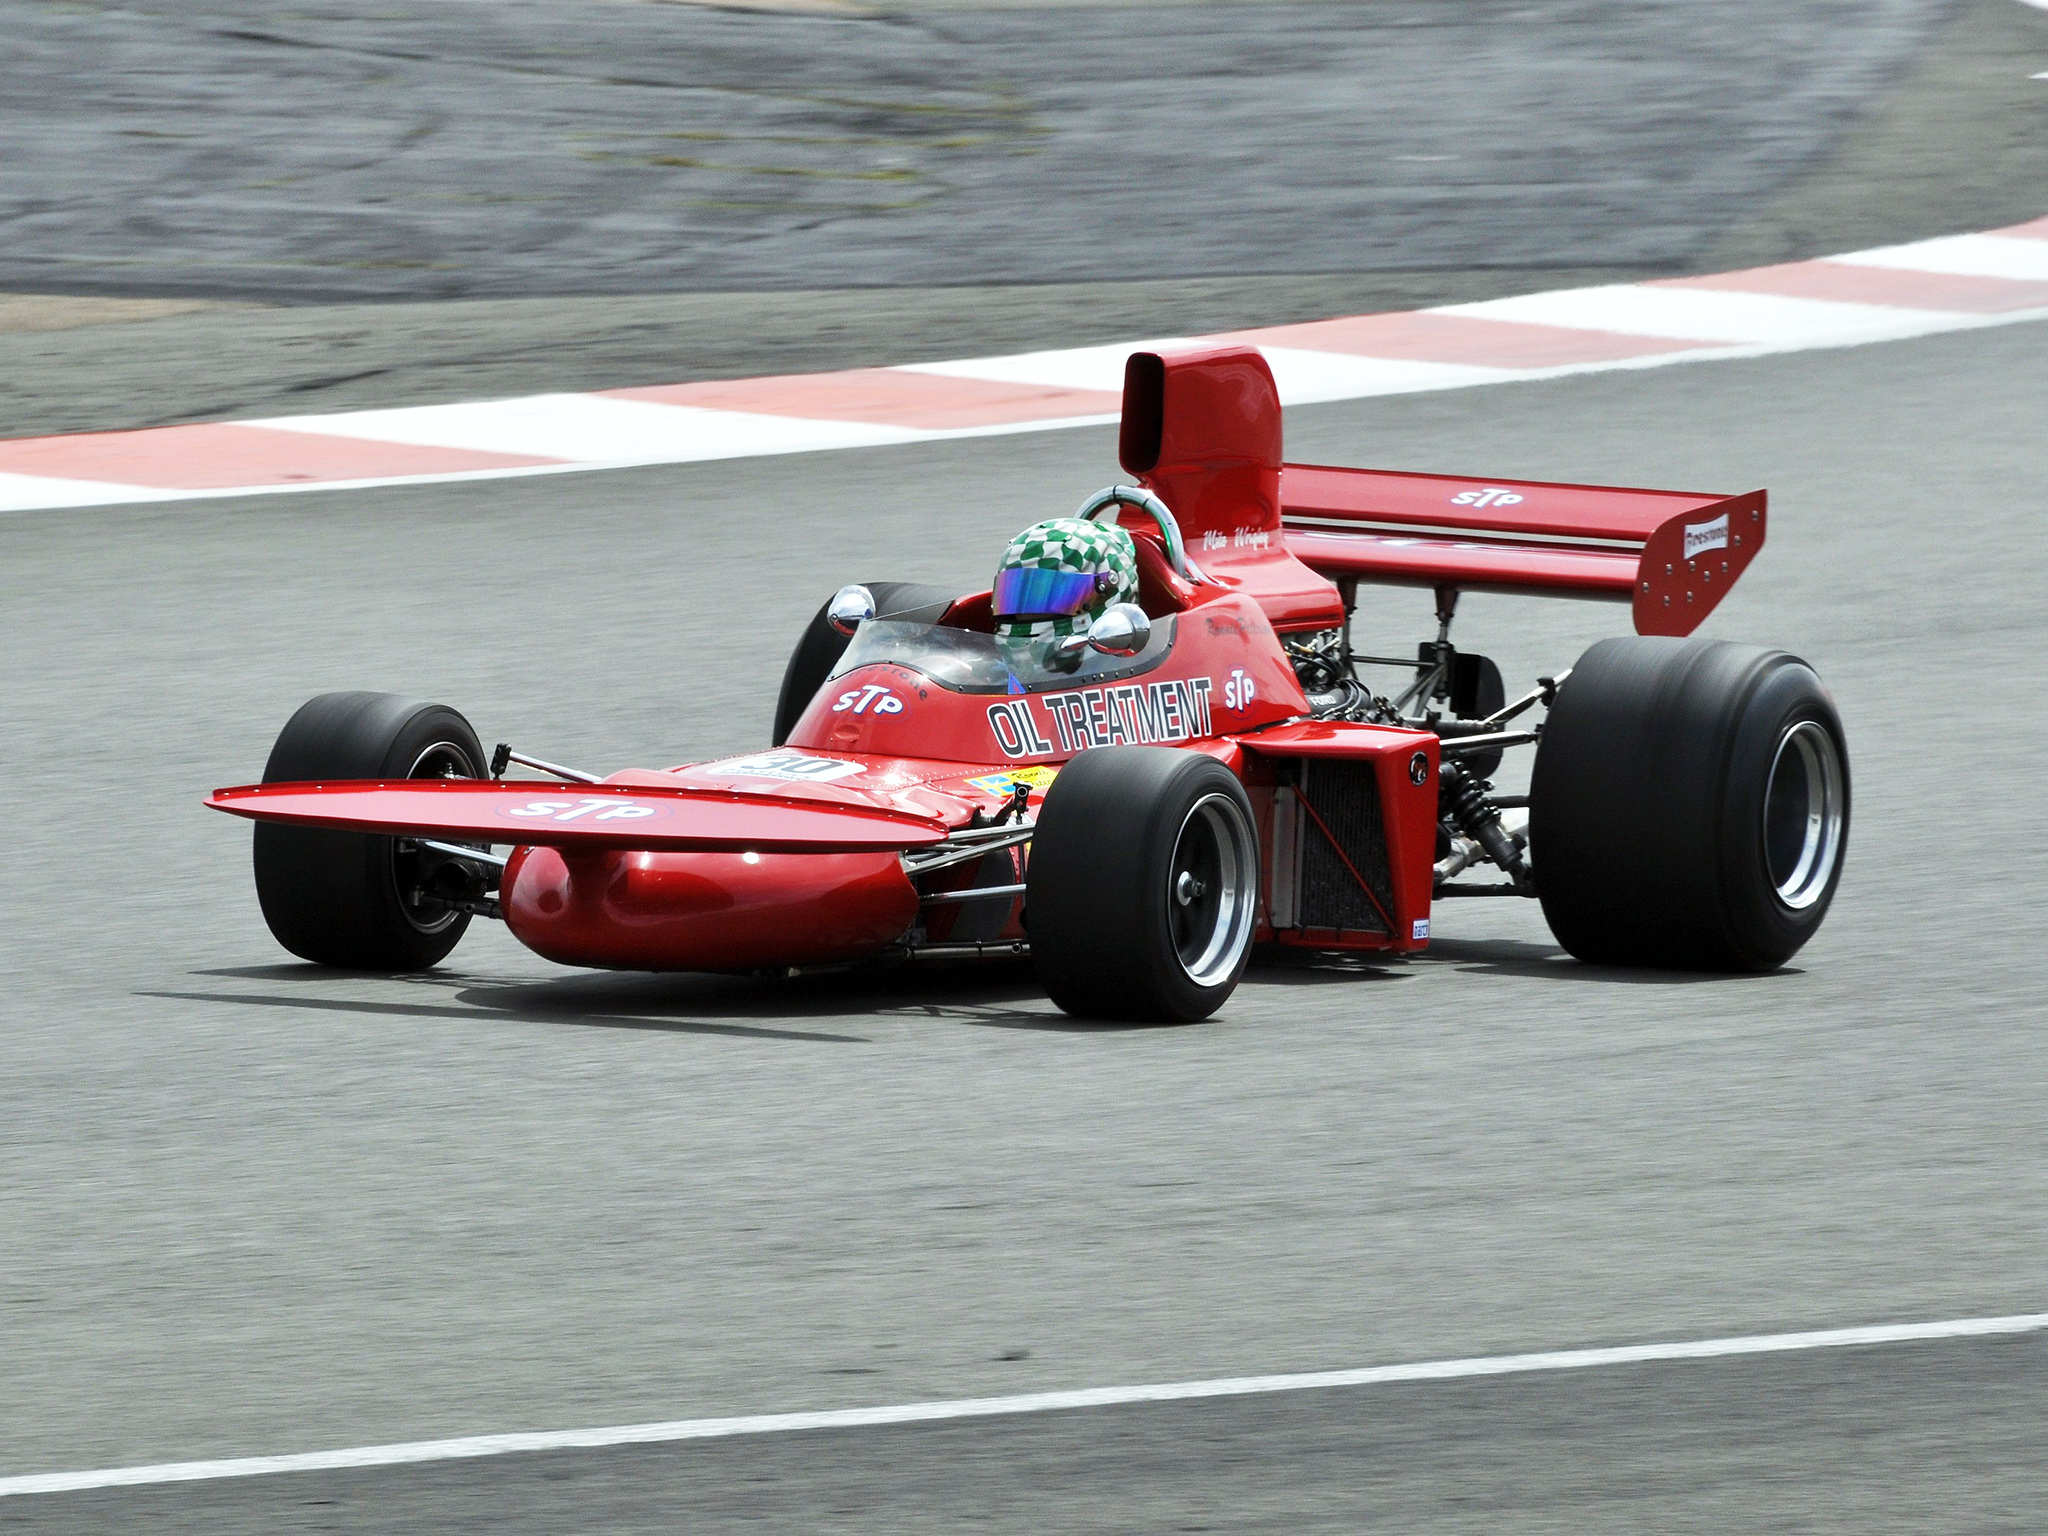f1_car: (174, 311, 1885, 1083)
helmet: (976, 502, 1159, 645)
